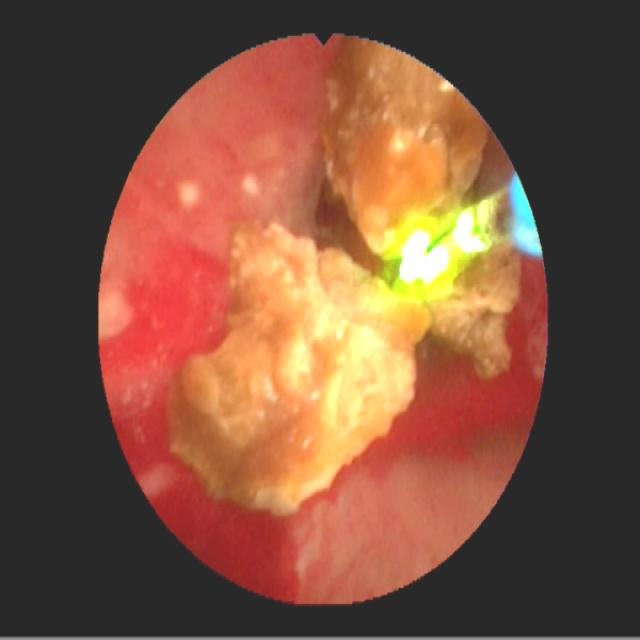fiber: (513, 179, 539, 254)
stone: (171, 44, 523, 519)
tissue: (115, 59, 539, 581)
